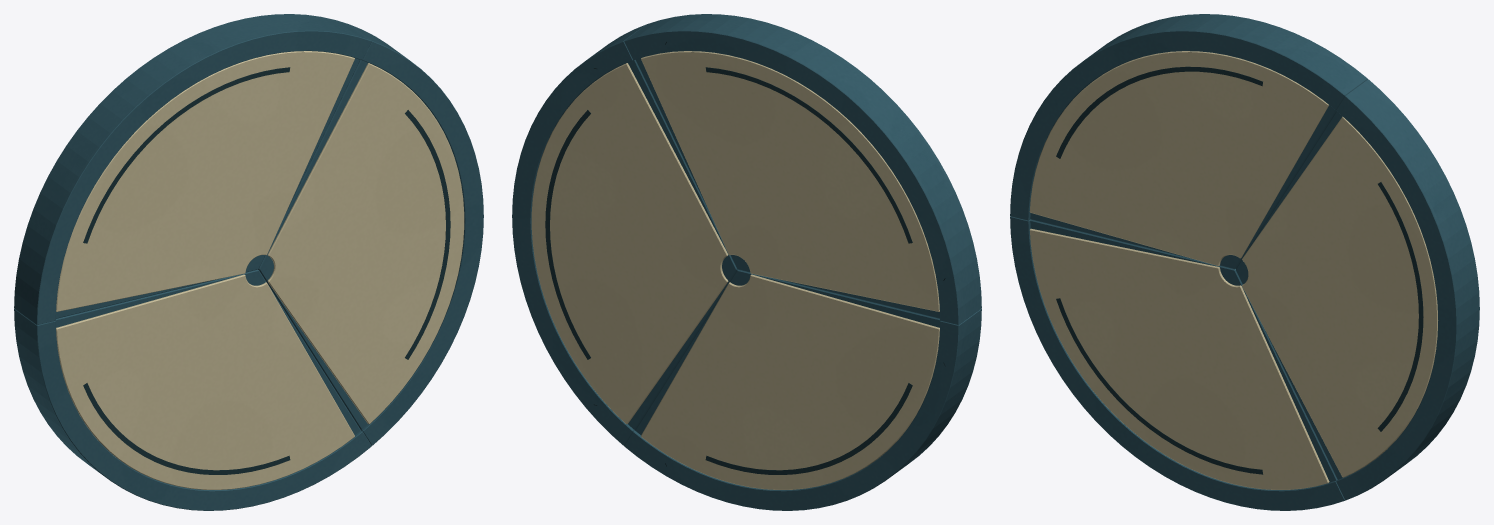
The model's file is 01_圆形封堵件_三块120度组合.glb.
The picture shows the model from 3 angles, left to right: view 1: azimuth 30°, elevation 25°; view 2: azimuth 150°, elevation 25°; view 3: azimuth 330°, elevation 25°; orthographic projection.
Visible parts, largest first — view 1: Sector_0_Cream_Inset_-1, Sector_2_Cream_Inset_-1, Sector_1_Cream_Inset_-1, Sector_1_Outer_Rim, Sector_2_Outer_Rim, Sector_0_Outer_Rim, Sector_1_Structural_Body, Sector_2_Structural_Body, Sector_0_Structural_Body, Sector_1_Teal_Arc_-1, Sector_0_Teal_Arc_-1, Sector_2_Teal_Arc_-1; view 2: Sector_0_Cream_Inset_1, Sector_2_Cream_Inset_1, Sector_1_Cream_Inset_1, Sector_1_Outer_Rim, Sector_2_Outer_Rim, Sector_0_Outer_Rim, Sector_1_Structural_Body, Sector_0_Structural_Body, Sector_2_Structural_Body, Sector_1_Teal_Arc_1, Sector_0_Teal_Arc_1, Sector_2_Teal_Arc_1; view 3: Sector_2_Cream_Inset_-1, Sector_1_Cream_Inset_-1, Sector_0_Cream_Inset_-1, Sector_0_Outer_Rim, Sector_1_Outer_Rim, Sector_2_Outer_Rim, Sector_0_Structural_Body, Sector_1_Structural_Body, Sector_2_Structural_Body, Sector_2_Teal_Arc_-1, Sector_0_Teal_Arc_-1, Sector_1_Teal_Arc_-1.
Boxes of the visible parts, box(x1,y1,x2,y2) form: Sector_0_Cream_Inset_-1: box(267, 63, 464, 424); Sector_2_Cream_Inset_-1: box(56, 274, 354, 489); Sector_1_Cream_Inset_-1: box(56, 51, 354, 311); Sector_1_Outer_Rim: box(14, 14, 371, 325); Sector_2_Outer_Rim: box(14, 309, 371, 510); Sector_0_Outer_Rim: box(350, 24, 483, 445); Sector_1_Structural_Body: box(16, 18, 359, 322); Sector_2_Structural_Body: box(16, 269, 360, 476); Sector_0_Structural_Body: box(258, 26, 408, 429); Sector_1_Teal_Arc_-1: box(83, 67, 290, 243); Sector_0_Teal_Arc_-1: box(405, 110, 450, 359); Sector_2_Teal_Arc_-1: box(83, 383, 290, 474); Sector_0_Cream_Inset_1: box(531, 63, 728, 424); Sector_2_Cream_Inset_1: box(641, 274, 939, 489); Sector_1_Cream_Inset_1: box(641, 51, 939, 311); Sector_1_Outer_Rim: box(624, 14, 981, 325); Sector_2_Outer_Rim: box(624, 309, 981, 510); Sector_0_Outer_Rim: box(512, 24, 645, 445); Sector_1_Structural_Body: box(627, 15, 972, 318); Sector_0_Structural_Body: box(587, 26, 737, 429); Sector_2_Structural_Body: box(635, 269, 963, 476); Sector_1_Teal_Arc_1: box(705, 67, 912, 243); Sector_0_Teal_Arc_1: box(545, 110, 590, 359); Sector_2_Teal_Arc_1: box(705, 383, 912, 474); Sector_2_Cream_Inset_-1: box(1029, 228, 1329, 489); Sector_1_Cream_Inset_-1: box(1029, 51, 1328, 266); Sector_0_Cream_Inset_-1: box(1242, 116, 1438, 477); Sector_0_Outer_Rim: box(1336, 79, 1479, 500); Sector_1_Outer_Rim: box(1010, 14, 1367, 220); Sector_2_Outer_Rim: box(1010, 216, 1344, 510); Sector_0_Structural_Body: box(1236, 81, 1476, 479); Sector_1_Structural_Body: box(1030, 15, 1364, 269); Sector_2_Structural_Body: box(1030, 219, 1337, 482); Sector_2_Teal_Arc_-1: box(1056, 298, 1263, 474); Sector_0_Teal_Arc_-1: box(1377, 182, 1423, 431); Sector_1_Teal_Arc_-1: box(1056, 66, 1262, 158).
Size of the model in its own units: 2 by 2 by 0.1803.
Materials: 6 (6 with a texture image).
